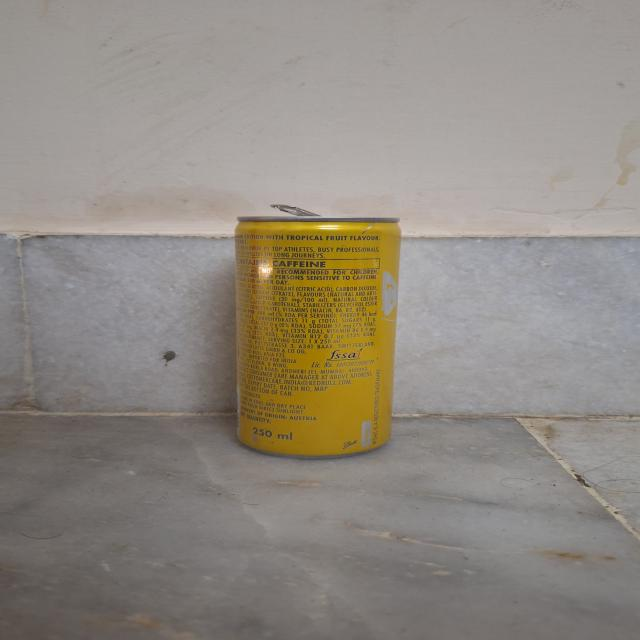Redbull Yellow Edition: (201, 198, 412, 463)
